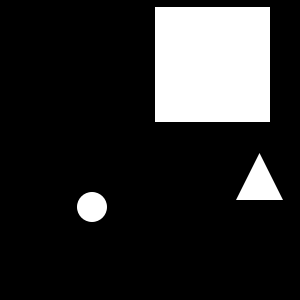circle: (155, 7, 270, 122)
rectangle: (77, 192, 107, 222)
triangle: (236, 153, 283, 200)
